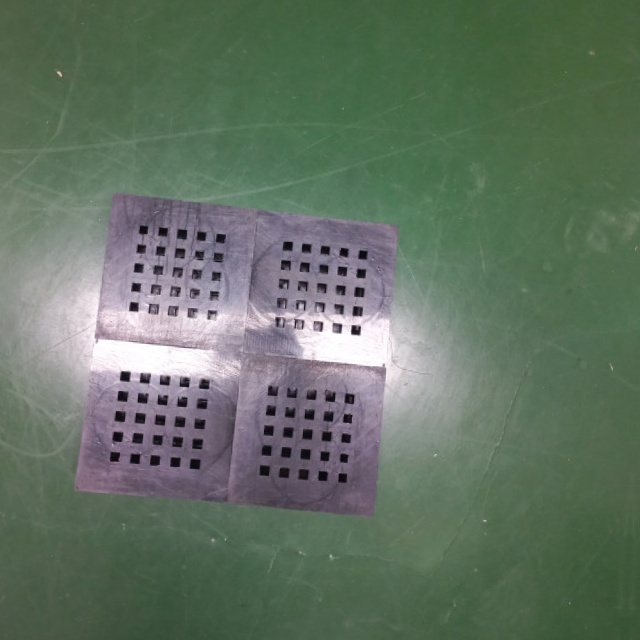pallet: (68, 190, 402, 528)
